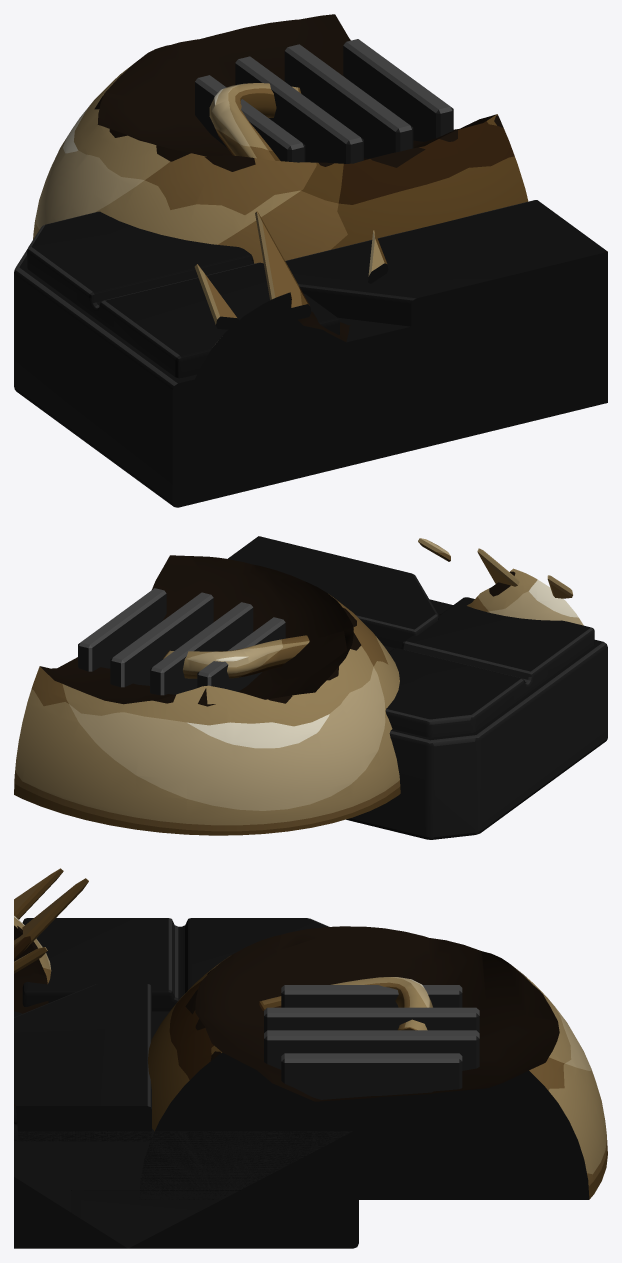
Rendered from gold_domes_tl_wreck.glb.
The picture shows the model from 3 angles, top to bottom: view 1: azimuth 30°, elevation 25°; view 2: azimuth 150°, elevation 25°; view 3: azimuth 270°, elevation 25°; orthographic projection. The views are drawn at different scales.
Visible parts, largest first — view 1: gold_domes_tl_wreck; view 2: gold_domes_tl_wreck; view 3: gold_domes_tl_wreck.
Boxes of the visible parts, <box> form: gold_domes_tl_wreck: <box>14,14,607,507</box>; gold_domes_tl_wreck: <box>14,536,607,839</box>; gold_domes_tl_wreck: <box>14,868,607,1248</box>.
Bounding box in the file's own units: 22 × 11.59 × 27.55.
